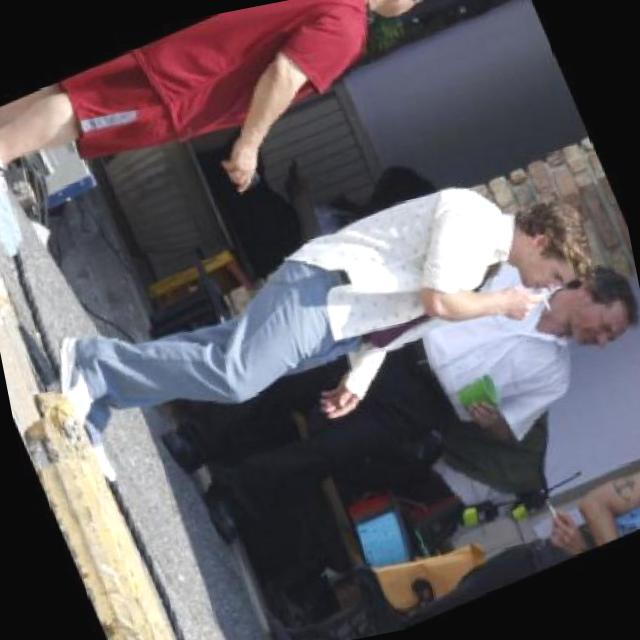smoke: (537, 286, 556, 319)
